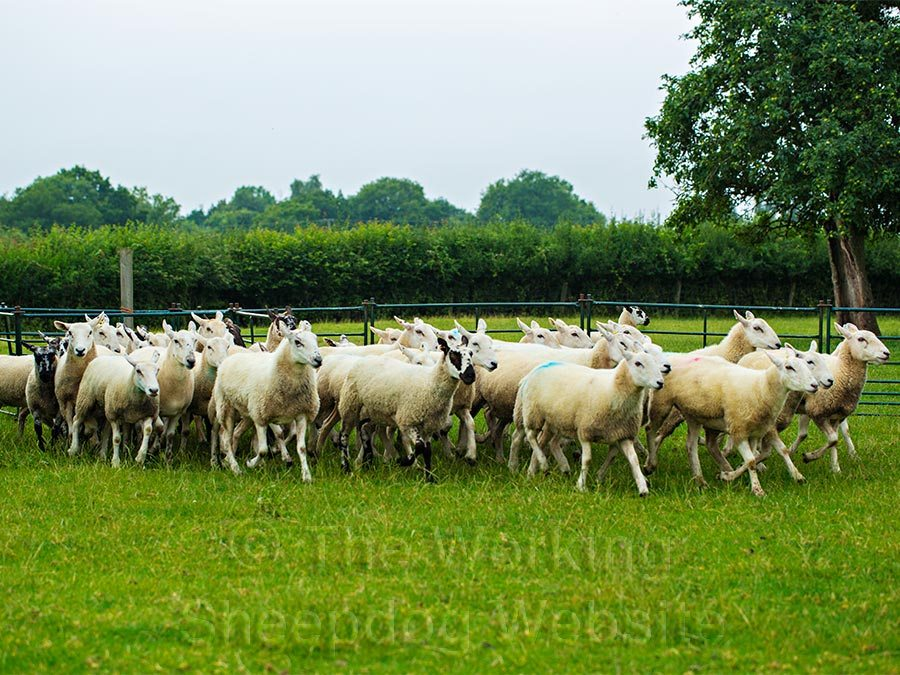sheep: (521, 342, 672, 484), (335, 343, 477, 477), (683, 348, 812, 477), (212, 313, 315, 473), (23, 311, 121, 437), (792, 319, 870, 468), (72, 341, 161, 458), (142, 326, 212, 418), (703, 308, 798, 372), (230, 306, 302, 358), (515, 321, 591, 358), (597, 312, 643, 367), (386, 328, 440, 362)
